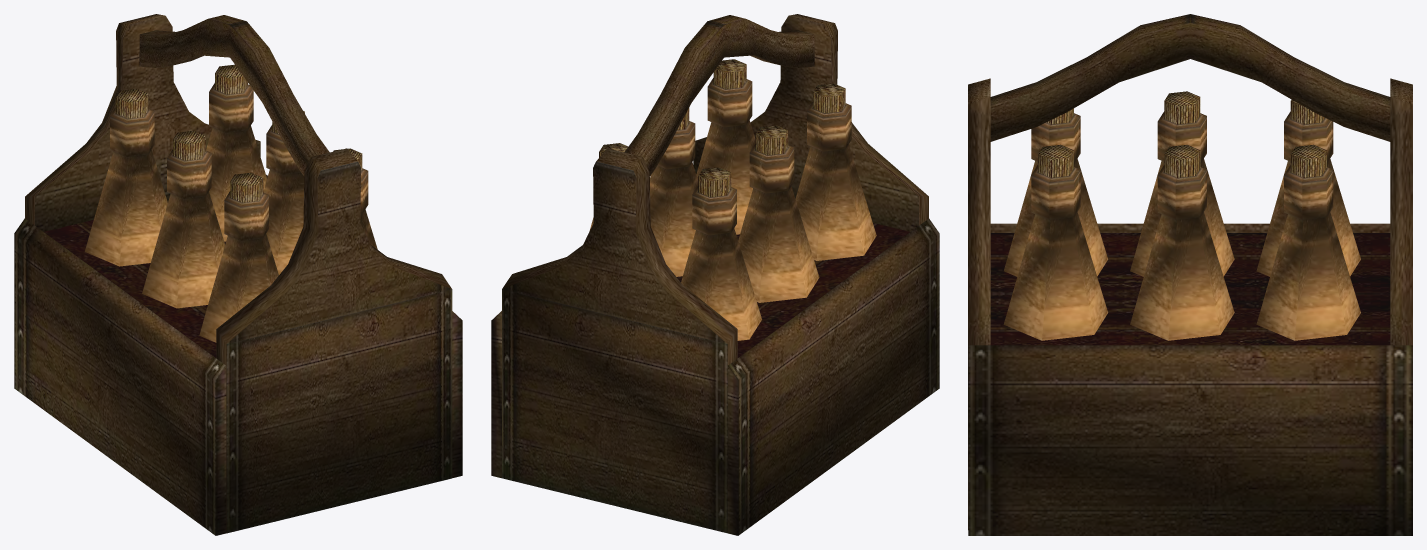
Rendered from LAKOMY_BEER_BOX_RICH_01.glb.
3 renders of one model, left to right at view 1: azimuth 30°, elevation 25°; view 2: azimuth 150°, elevation 25°; view 3: azimuth 270°, elevation 25°, orthographic. The views are drawn at different scales.
Visible parts, largest first — view 1: Mesh; view 2: Mesh; view 3: Mesh.
Boxes of the visible parts, left/top/right/bottom form: Mesh: left=14, top=14, right=462, bottom=535; Mesh: left=491, top=14, right=939, bottom=535; Mesh: left=968, top=14, right=1412, bottom=535.
Bounding box in the file's own units: 0.2805 × 0.444 × 0.3967.
Materials: 2 (2 with a texture image).
